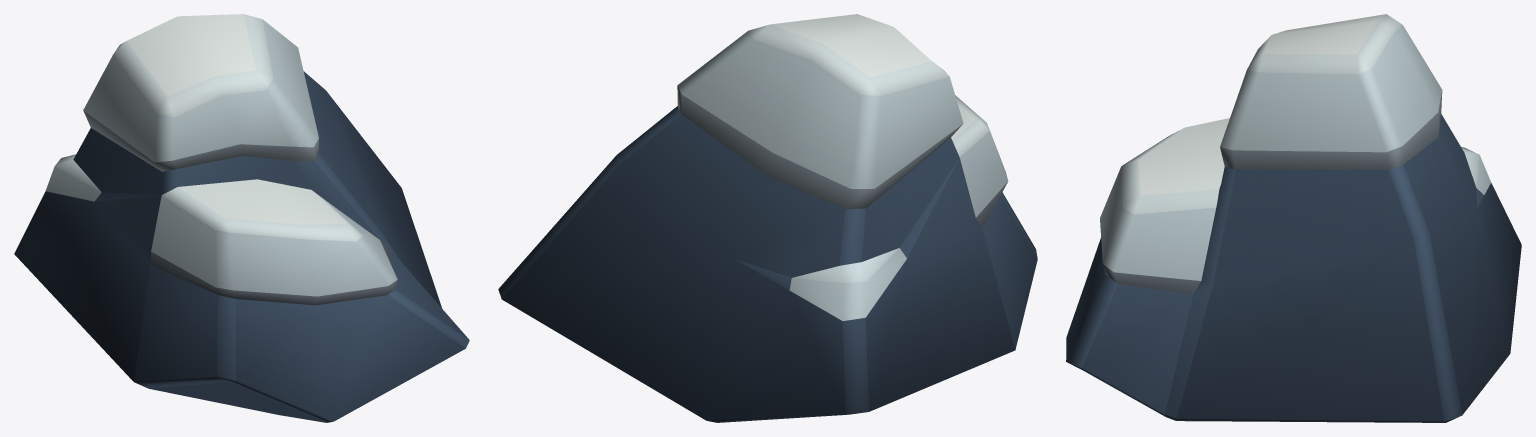
Rendered from rock_snow_018.fbx.
The picture shows the model from 3 angles, left to right: view 1: azimuth 30°, elevation 25°; view 2: azimuth 150°, elevation 25°; view 3: azimuth 270°, elevation 25°; orthographic projection. The views are drawn at different scales.
Parts seen in each view (by area): view 1: rock_snow_018; view 2: rock_snow_018; view 3: rock_snow_018.
Boxes of the visible parts, x1,y1,x2,y2 form: rock_snow_018: (14,14,469,422); rock_snow_018: (498,14,1037,422); rock_snow_018: (1066,14,1521,422).
Bounding box in the file's own units: 244 × 219 × 253.
Materials: 1 (1 with a texture image).
